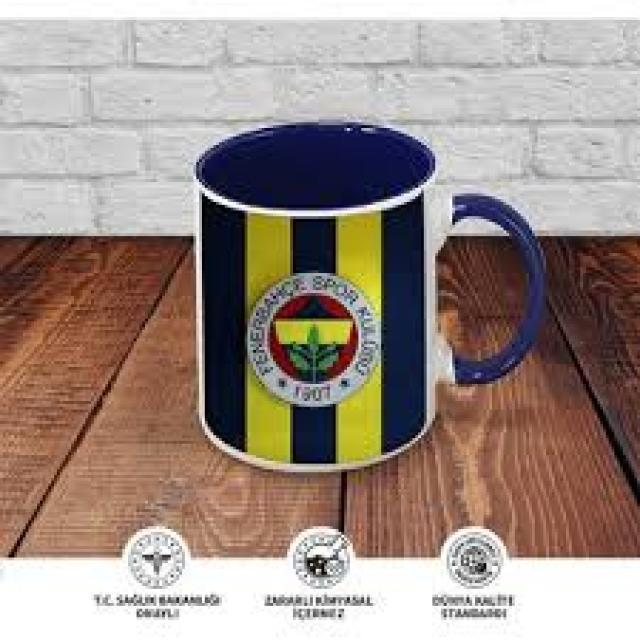taza: (193, 116, 544, 472)
